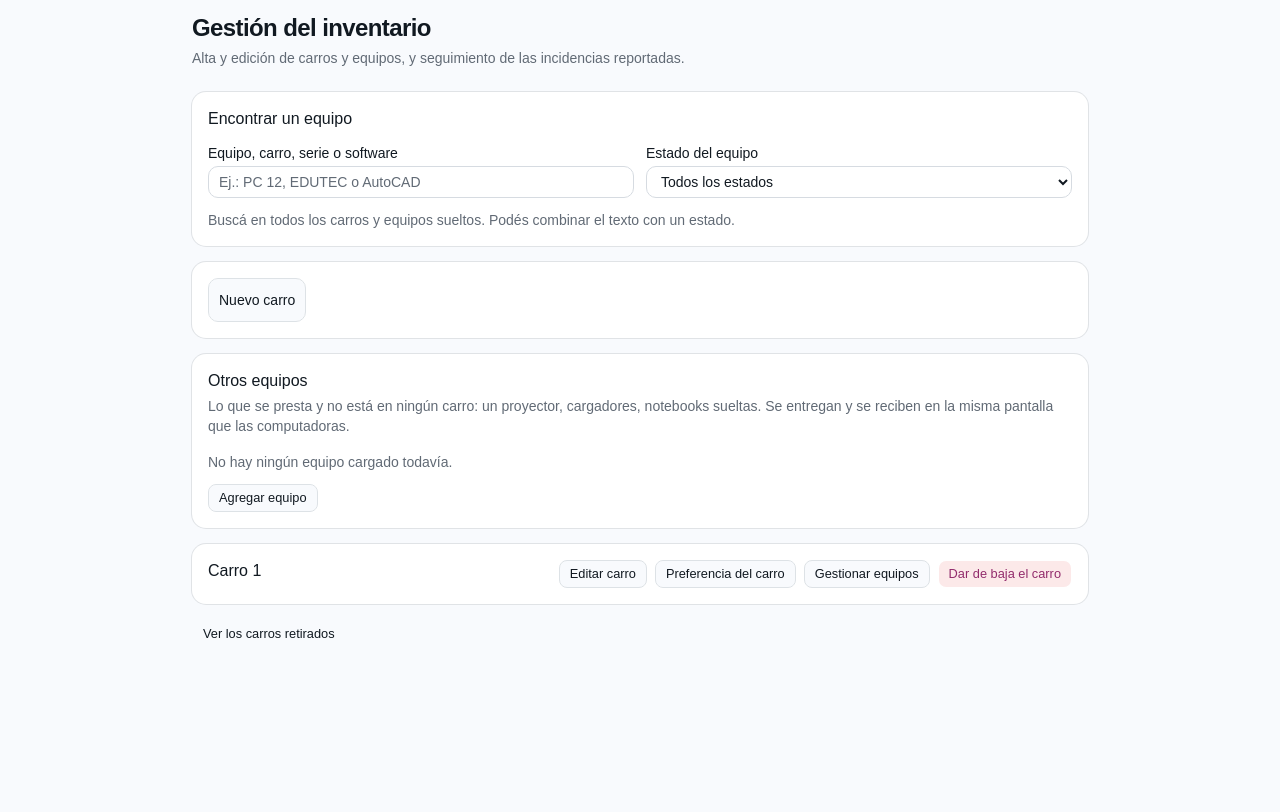
it: InventarioAdminPage › no presenta un error de equipos como carro vacío y permite reintentar
The image size is (1280, 812).
Click the button "Gestionar equipos" at (867, 574), box top-left (804, 560), bottom-right (930, 588)
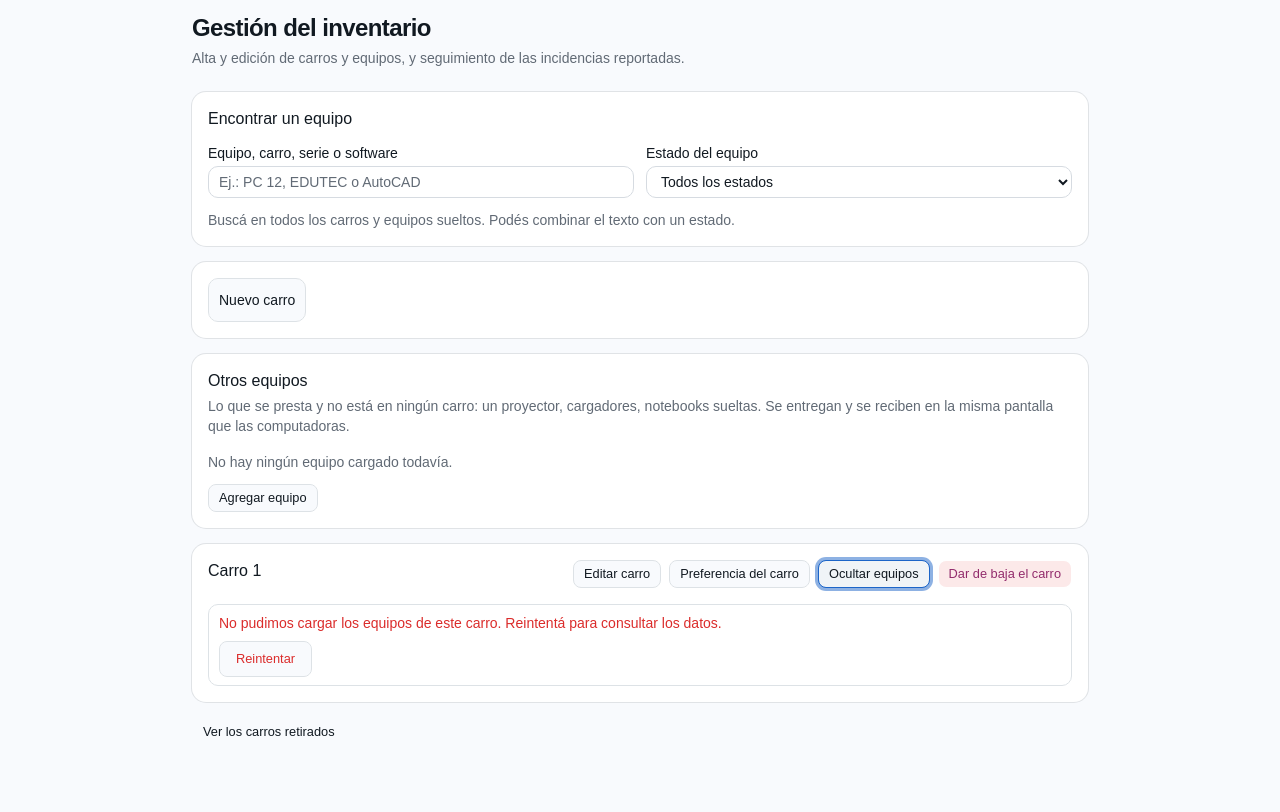
Expected: the message shows "No pudimos cargar los equipos de este carro", top-left (219, 615), bottom-right (502, 631)
Click the button "Reintentar" at (266, 659), box top-left (219, 641), bottom-right (312, 677)
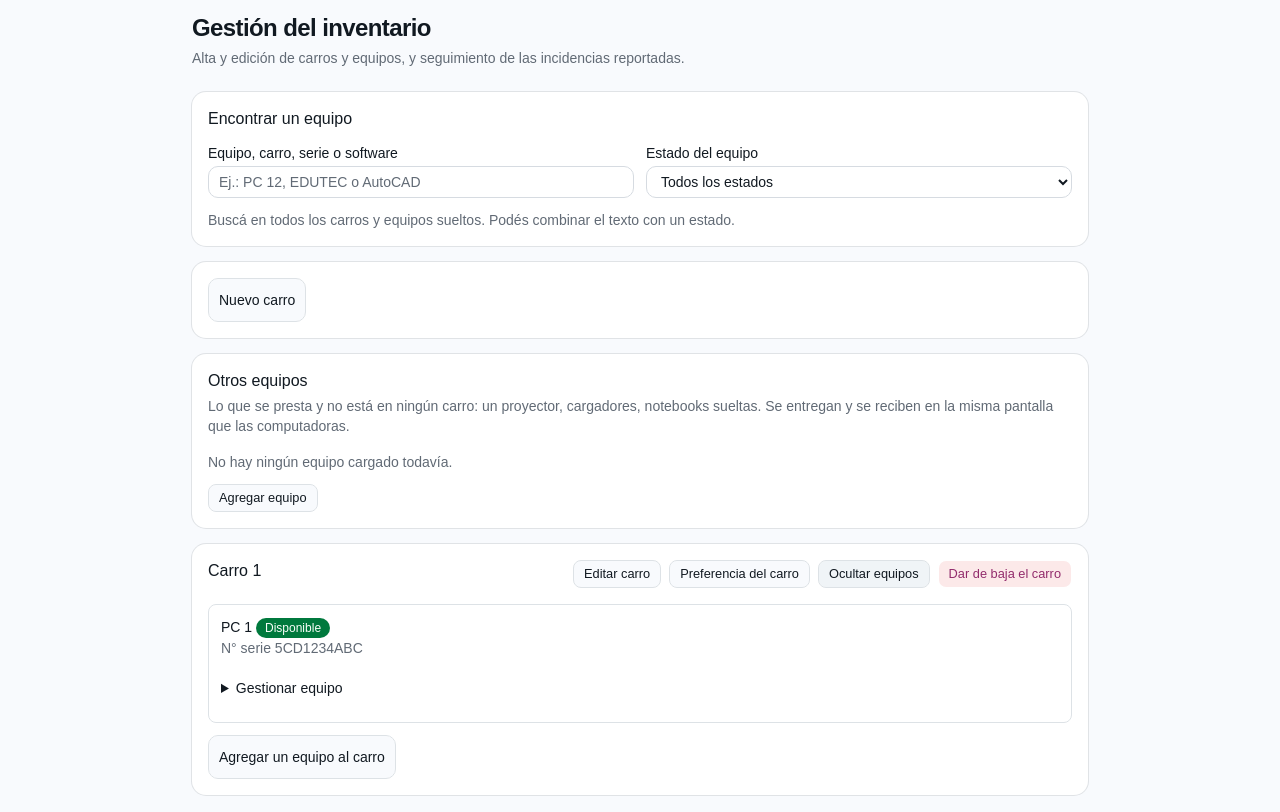
Expected: the text "PC 1" is shown, top-left (221, 619), bottom-right (252, 635)
